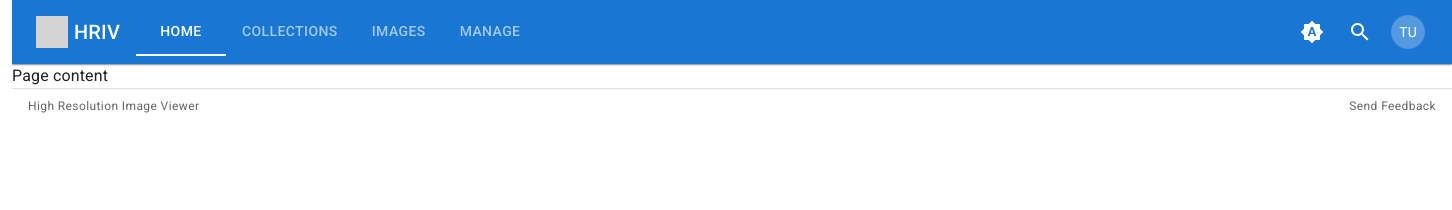
it: AppShell › manage menu › hides Programs menu item for non-admin editors
Click the tab "Manage" at (490, 32), box [444, 8, 536, 56]
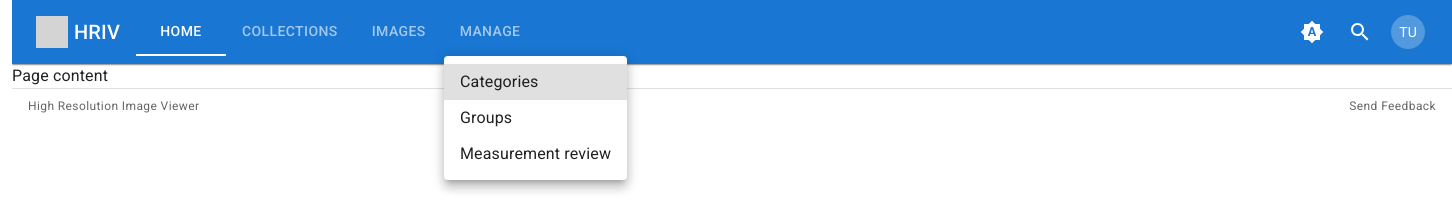
Expected: the menu item "Categories" is shown, [444, 64, 627, 100]
